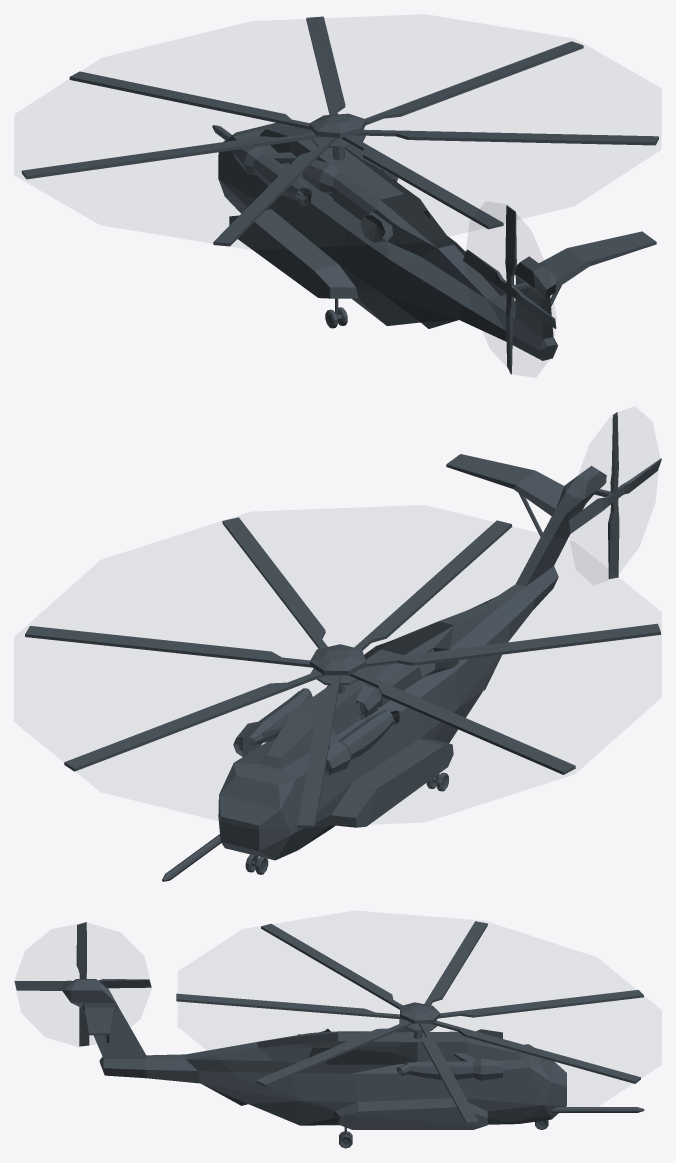
The model's file is Heli-CH53.glb.
3 renders of one model, top to bottom at view 1: azimuth 30°, elevation 25°; view 2: azimuth 150°, elevation 25°; view 3: azimuth 270°, elevation 25°, orthographic. The views are drawn at different scales.
Size of the model in its own units: 16.77 by 7.1 by 22.34.
